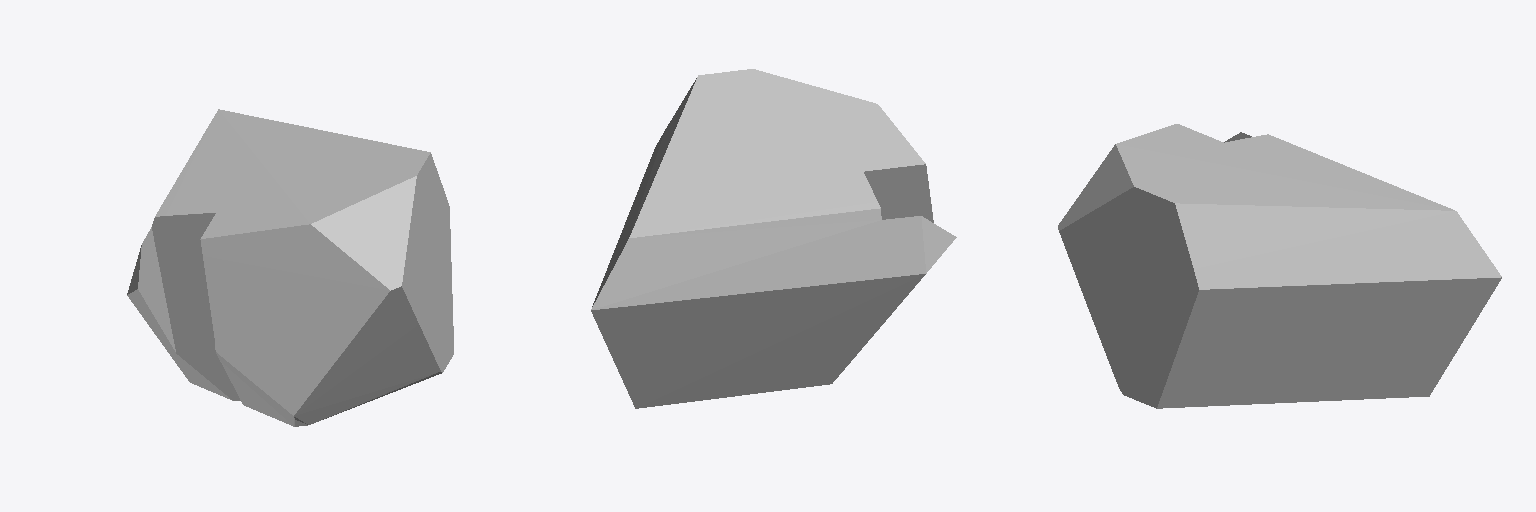
The model's file is li-fang-ti-.001_cell.077.obj.
3 renders of one model, left to right at view 1: azimuth 30°, elevation 25°; view 2: azimuth 150°, elevation 25°; view 3: azimuth 270°, elevation 25°, orthographic.
Visible parts, largest first — view 1: 立方体.001_cell.077; view 2: 立方体.001_cell.077; view 3: 立方体.001_cell.077.
Boxes of the visible parts, <box> form: 立方体.001_cell.077: <box>127,109,453,426</box>; 立方体.001_cell.077: <box>591,69,956,408</box>; 立方体.001_cell.077: <box>1058,124,1501,408</box>.
Size of the model in its own units: 0.2725 by 0.1907 by 0.3421.